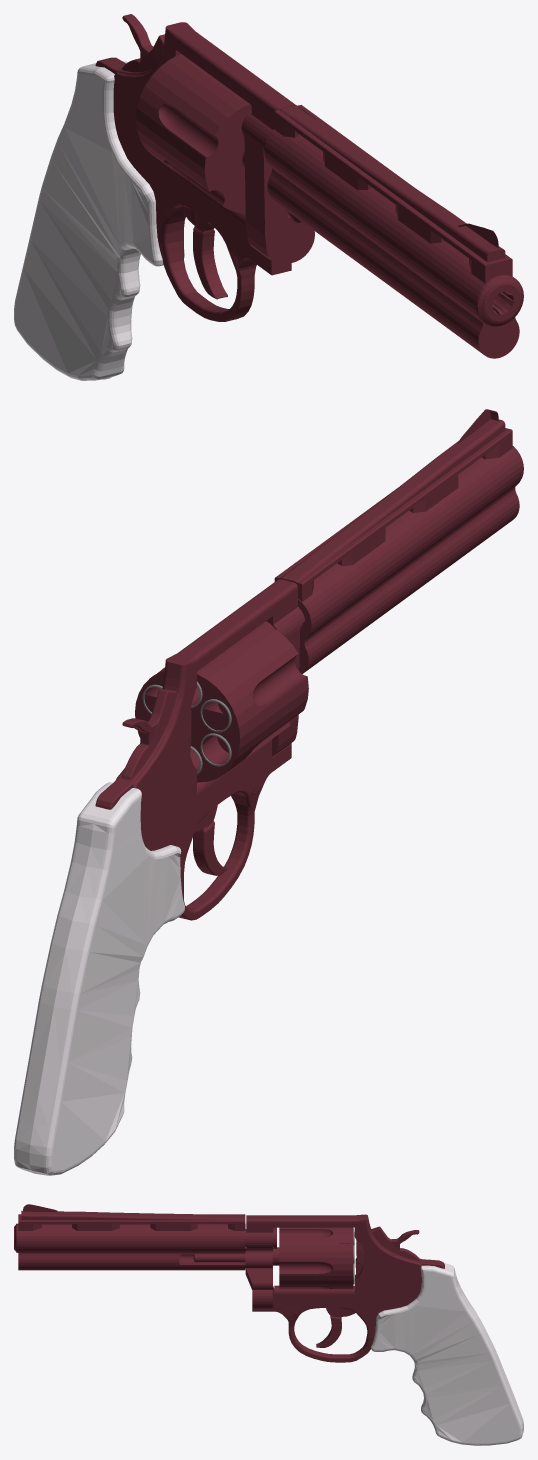
Rendered from reb2.fbx.
The picture shows the model from 3 angles, top to bottom: view 1: azimuth 30°, elevation 25°; view 2: azimuth 150°, elevation 25°; view 3: azimuth 270°, elevation 25°; orthographic projection. The views are drawn at different scales.
Visible parts, largest first — view 1: 平面, Cylinder, Cylinder.007, Cube.002, Cube, Cylinder.001, Cube.003, Cube.005, Cylinder.006, Cube.006, Cube.007, Cube.008; view 2: 平面, Cube.002, Cylinder.007, Cylinder, Cube, Cylinder.001, Cube.003, Cube.006, Cube.005, Cube.008; view 3: 平面, Cube.002, Cylinder, Cylinder.007, Cylinder.001, Cube, Cube.003, Cube.006, Cube.005, Cylinder.005, Cylinder.004, Cylinder.003 (+2 smaller).
Boxes of the visible parts, left/top/right/bottom form: 平面: left=14, top=61, right=184, bottom=380; Cylinder: left=241, top=110, right=523, bottom=326; Cylinder.007: left=136, top=54, right=251, bottom=212; Cube.002: left=113, top=22, right=295, bottom=245; Cube: left=274, top=105, right=512, bottom=283; Cylinder.001: left=267, top=168, right=519, bottom=358; Cube.003: left=157, top=198, right=291, bottom=321; Cube.005: left=180, top=206, right=227, bottom=299; Cylinder.006: left=284, top=215, right=314, bottom=263; Cube.006: left=121, top=34, right=164, bottom=72; Cube.007: left=122, top=14, right=153, bottom=62; Cube.008: left=95, top=55, right=161, bottom=74; 平面: left=14, top=782, right=184, bottom=1175; Cube.002: left=116, top=579, right=297, bottom=866; Cylinder.007: left=135, top=623, right=308, bottom=782; Cylinder: left=264, top=446, right=523, bottom=756; Cube: left=274, top=419, right=512, bottom=601; Cylinder.001: left=299, top=486, right=519, bottom=673; Cube.003: left=179, top=743, right=291, bottom=920; Cube.006: left=121, top=689, right=191, bottom=780; Cube.005: left=193, top=805, right=227, bottom=875; Cube.008: left=95, top=693, right=178, bottom=809; 平面: left=371, top=1259, right=523, bottom=1445; Cube.002: left=246, top=1214, right=421, bottom=1335; Cylinder: left=14, top=1223, right=276, bottom=1252; Cylinder.007: left=272, top=1227, right=353, bottom=1289; Cylinder.001: left=18, top=1252, right=245, bottom=1270; Cube: left=18, top=1210, right=245, bottom=1230; Cube.003: left=252, top=1302, right=374, bottom=1362; Cube.006: left=354, top=1226, right=420, bottom=1277; Cube.005: left=316, top=1307, right=354, bottom=1347; Cylinder.005: left=245, top=1265, right=272, bottom=1289; Cylinder.004: left=245, top=1248, right=272, bottom=1268; Cylinder.003: left=193, top=1254, right=245, bottom=1262.
Size of what is drawn, in the model's own units: 63.62 by 256 by 496.
